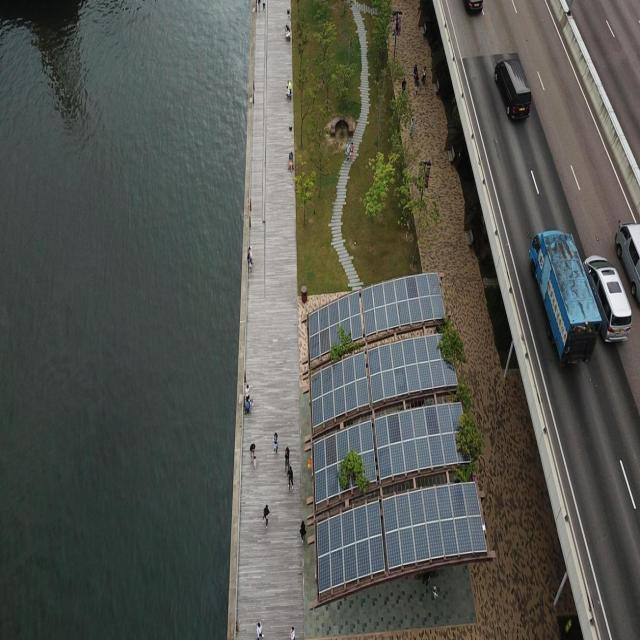p3rson: (261, 502, 270, 530), (286, 462, 294, 492), (298, 518, 307, 544), (282, 446, 290, 472), (248, 439, 256, 462), (248, 242, 256, 264), (255, 622, 266, 638), (287, 624, 298, 640), (287, 150, 294, 172), (273, 431, 279, 453), (286, 80, 292, 100), (244, 380, 249, 403), (422, 64, 427, 86), (409, 117, 414, 139), (401, 77, 406, 94), (286, 86, 292, 100), (346, 142, 350, 161), (414, 70, 418, 88), (350, 140, 353, 162), (255, 0, 261, 11), (262, 0, 266, 12), (252, 636, 262, 640)
